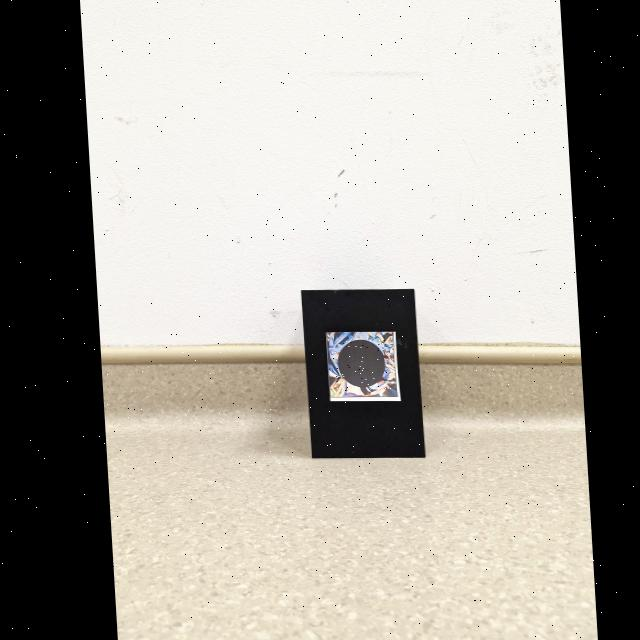CIRCLE: (327, 340, 382, 394)
